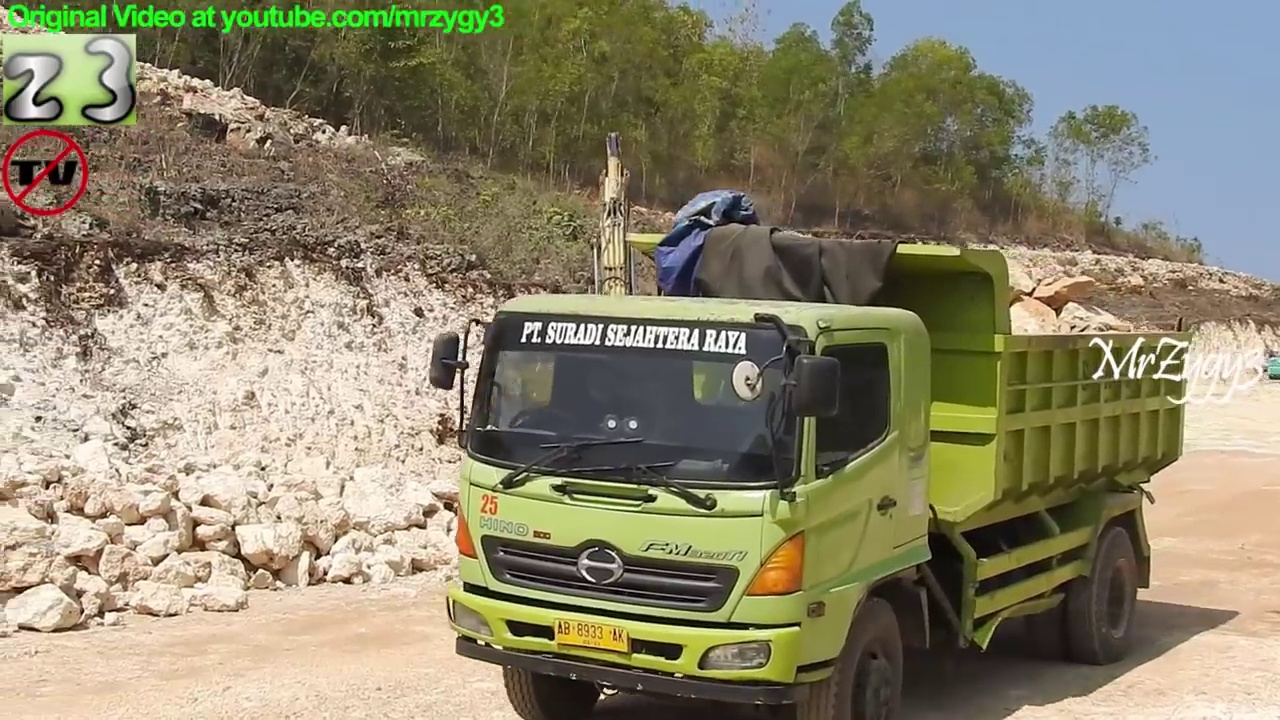excavator: (498, 128, 791, 476), (1260, 348, 1280, 385)
truck: (422, 221, 1203, 720)
